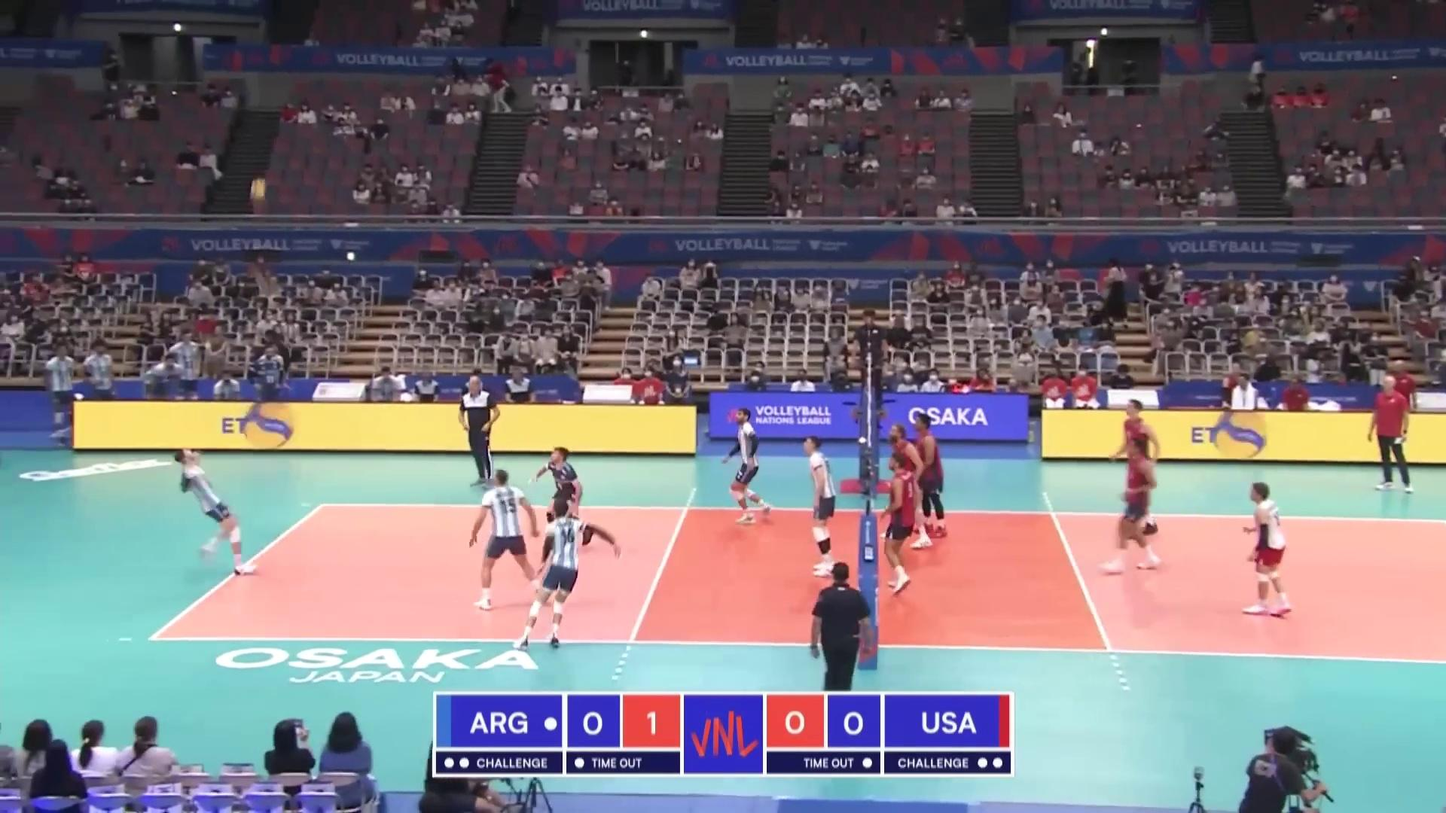player: (517, 499, 610, 644), (174, 448, 258, 576), (469, 469, 542, 611), (1104, 437, 1161, 575), (1241, 483, 1294, 616), (882, 424, 935, 548), (1115, 400, 1161, 537), (880, 454, 920, 603), (536, 448, 595, 548), (724, 406, 771, 527), (912, 410, 949, 538), (804, 436, 838, 575)
refree: (808, 562, 872, 695), (849, 309, 889, 414)
